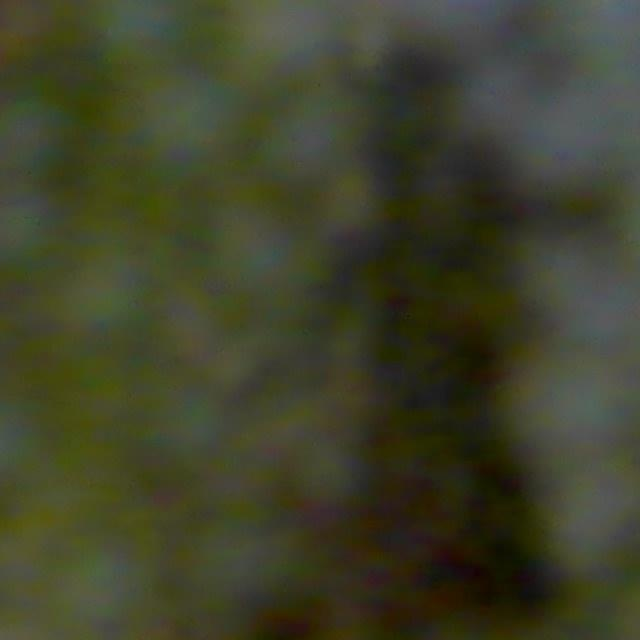SeaGrape: (494, 351, 629, 460), (193, 192, 293, 315), (193, 510, 302, 615), (534, 465, 640, 569), (248, 83, 348, 183), (139, 374, 234, 474), (521, 83, 612, 187), (148, 70, 230, 170), (66, 232, 139, 337), (0, 92, 75, 192), (243, 0, 343, 69), (193, 315, 271, 396), (525, 237, 598, 319), (89, 0, 166, 64), (0, 192, 48, 283)
